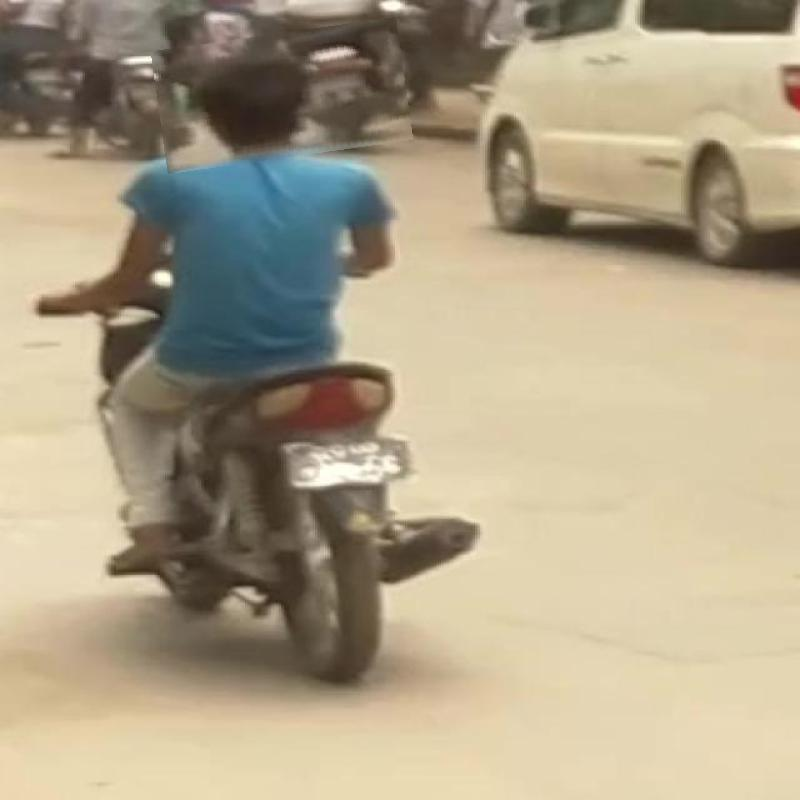nohelmet: (154, 25, 410, 166)
